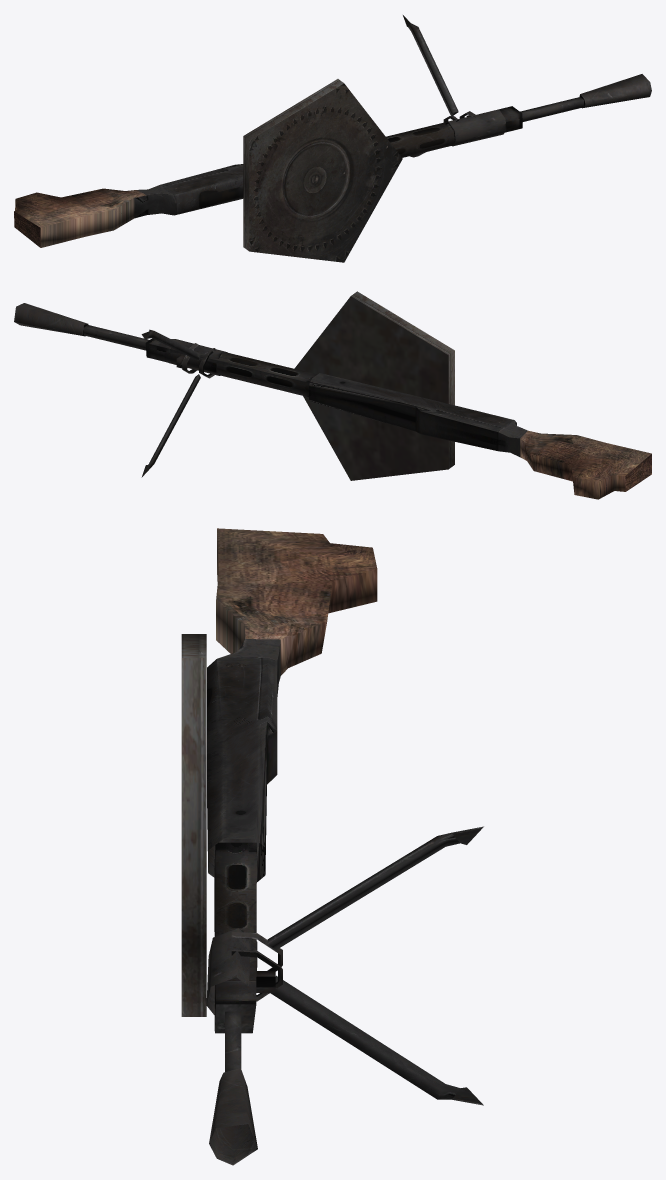
File: weapon_rus_dp28_bipod_lmg_LOD21.obj
3 views of the same model, one above another, from view 1: azimuth 30°, elevation 25°; view 2: azimuth 150°, elevation 25°; view 3: azimuth 270°, elevation 25° (orthographic). The views are drawn at different scales.
Visible parts, largest first — view 1: TomGroup_1, TomGroup_0; view 2: TomGroup_0, TomGroup_1; view 3: TomGroup_0, TomGroup_1.
Part boxes in pixels (x1,y1,x2,y2): TomGroup_1: [243, 79, 402, 262]; TomGroup_0: [14, 15, 651, 247]; TomGroup_0: [14, 303, 651, 499]; TomGroup_1: [294, 291, 454, 480]; TomGroup_0: [206, 528, 483, 1165]; TomGroup_1: [181, 634, 206, 1016].
Size of the model in its own units: 134 by 37.78 by 28.87.
2 materials, 2 textured.
